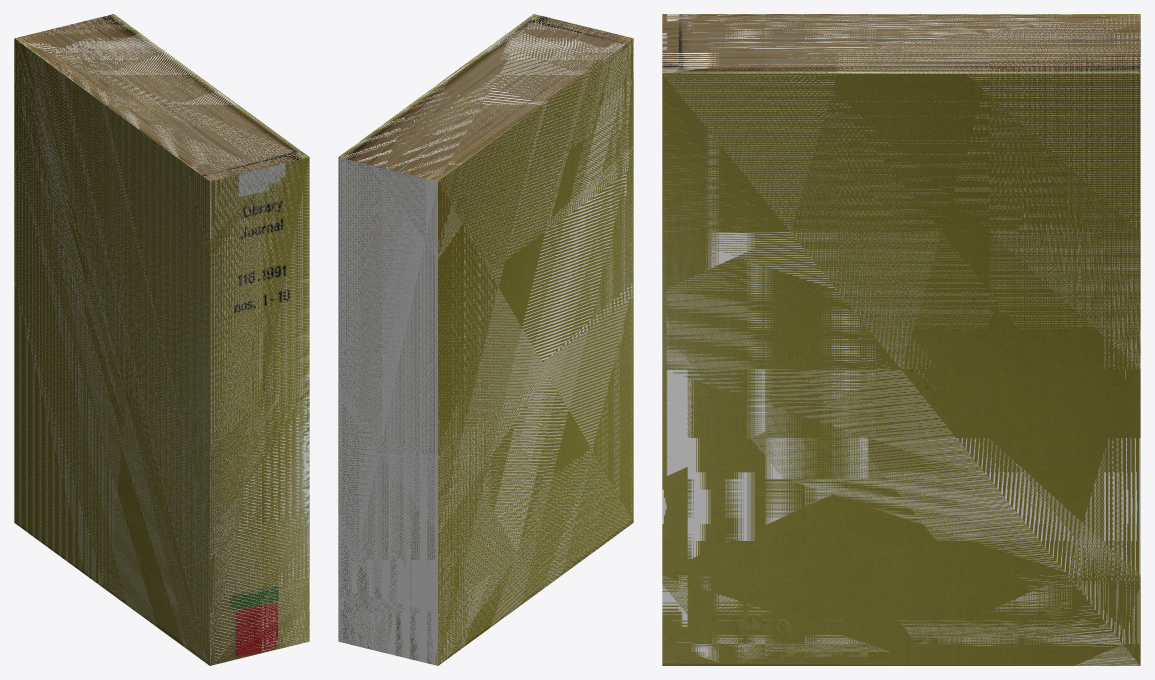
The model's file is book_journal_brown.dae.
3 renders of one model, left to right at view 1: azimuth 30°, elevation 25°; view 2: azimuth 150°, elevation 25°; view 3: azimuth 270°, elevation 25°, orthographic. The views are drawn at different scales.
Visible parts, largest first — view 1: SketchUp (×3); view 2: SketchUp (×2); view 3: SketchUp (×2).
Part boxes in pixels (<box>): SketchUp (×3): <box>14,14,309,665</box>; SketchUp (×2): <box>338,14,633,665</box>; SketchUp (×2): <box>662,14,1140,665</box>.
Bounding box in the file's own units: 0.0603 × 0.2045 × 0.2796.
5 materials, 4 textured.
